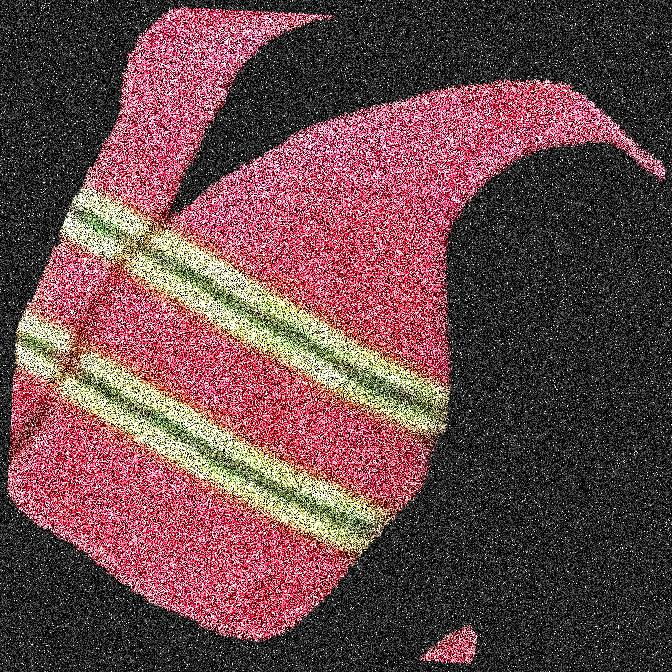Colete: (85, 0, 183, 671)
